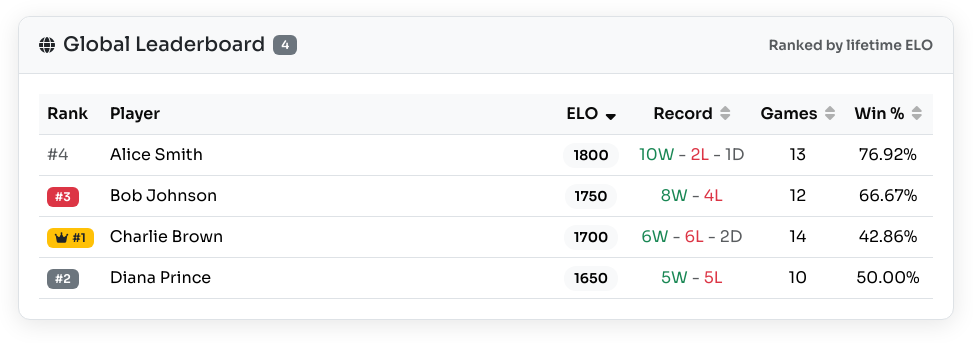
Scenario: GlobalLeaderboard › sorting functionality › should update ranks after sorting
Expected: the text "Alice Smith" is shown, [102,134,551,176]
Click the column heading "ELO" at x=591, y=114, box [551,94,631,134]
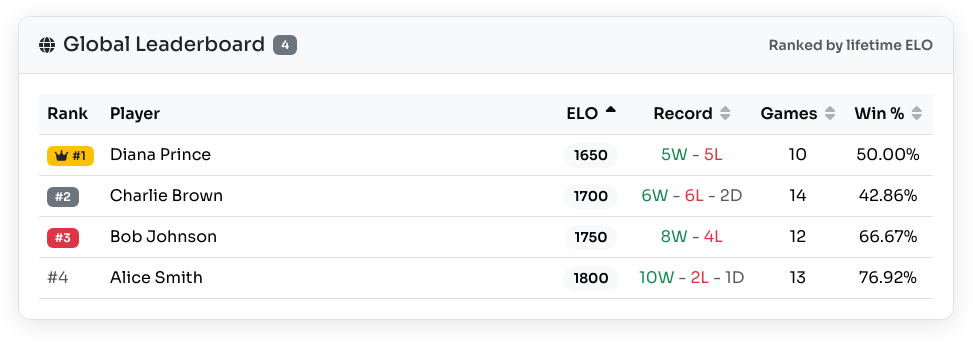
Now the text "#1" is shown, box [47,146,94,166]
